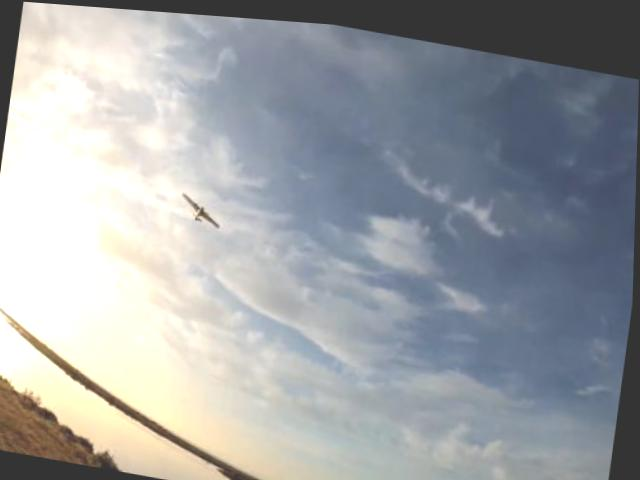uav: (179, 188, 228, 227)
